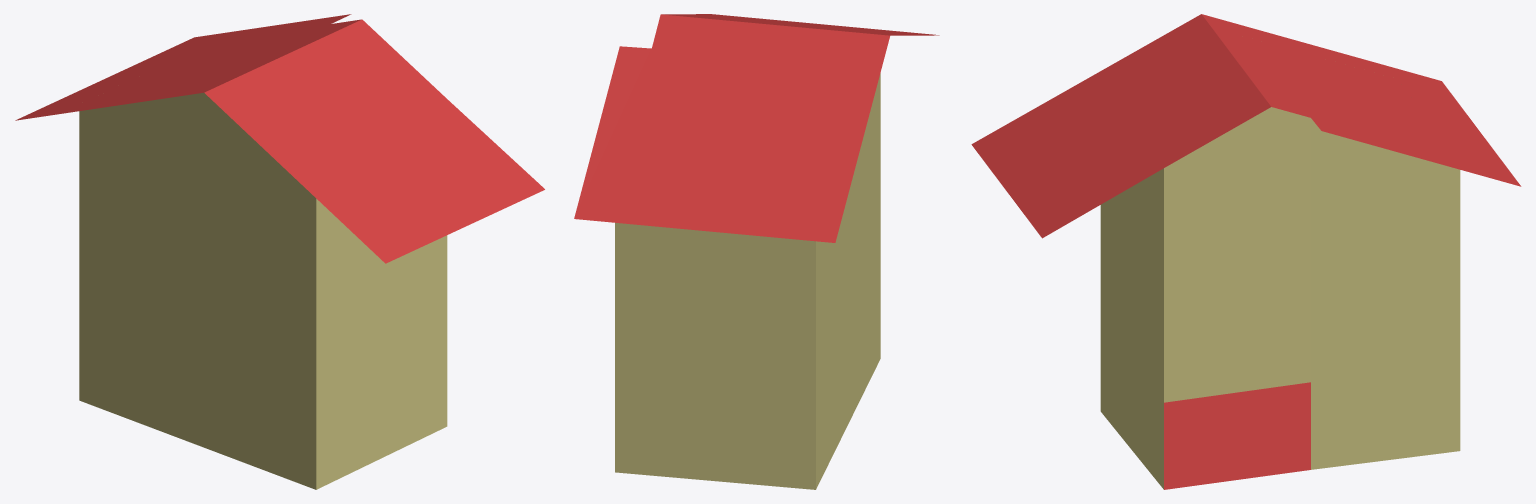
3 views of the same model, side by side, from view 1: azimuth 30°, elevation 25°; view 2: azimuth 150°, elevation 25°; view 3: azimuth 270°, elevation 25° (orthographic).
Size of the model in its own units: 6.75 by 9.98 by 7.37.
